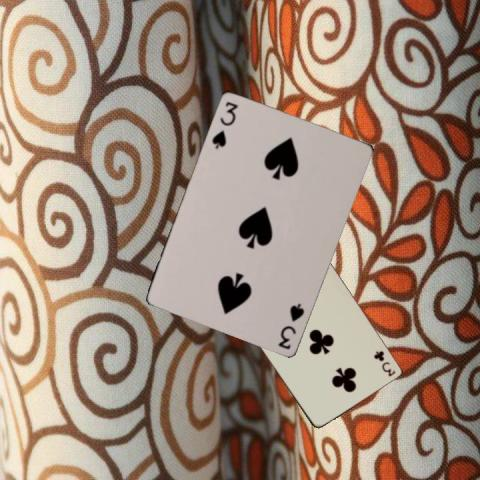3c: (371, 348, 396, 378)
3s: (275, 299, 305, 351), (209, 98, 239, 149)
